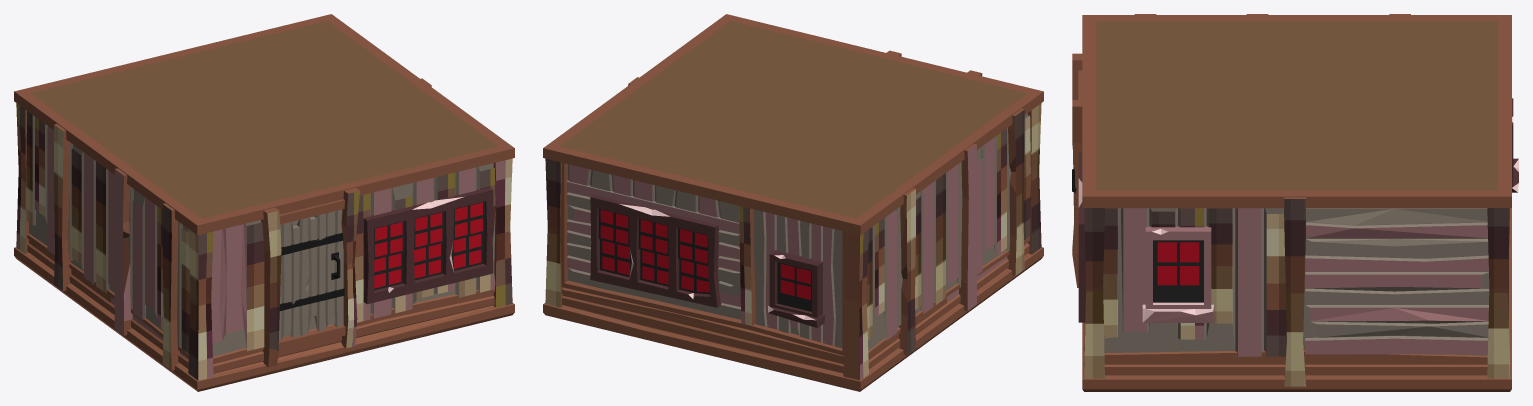
The model's file is SM_Bld_Shanty_Room_03.glb.
The picture shows the model from 3 angles, left to right: view 1: azimuth 30°, elevation 25°; view 2: azimuth 150°, elevation 25°; view 3: azimuth 270°, elevation 25°; orthographic projection. The views are drawn at different scales.
Parts seen in each view (by area): view 1: SM_Bld_Shanty_Room_03_00; view 2: SM_Bld_Shanty_Room_03_00; view 3: SM_Bld_Shanty_Room_03_00.
Boxes of the visible parts, x1,y1,x2,y2 form: SM_Bld_Shanty_Room_03_00: [14, 14, 514, 391]; SM_Bld_Shanty_Room_03_00: [543, 14, 1043, 391]; SM_Bld_Shanty_Room_03_00: [1072, 14, 1518, 391].
Size of the model in its own units: 5.19 by 2.52 by 5.2.
1 material, 1 textured.
